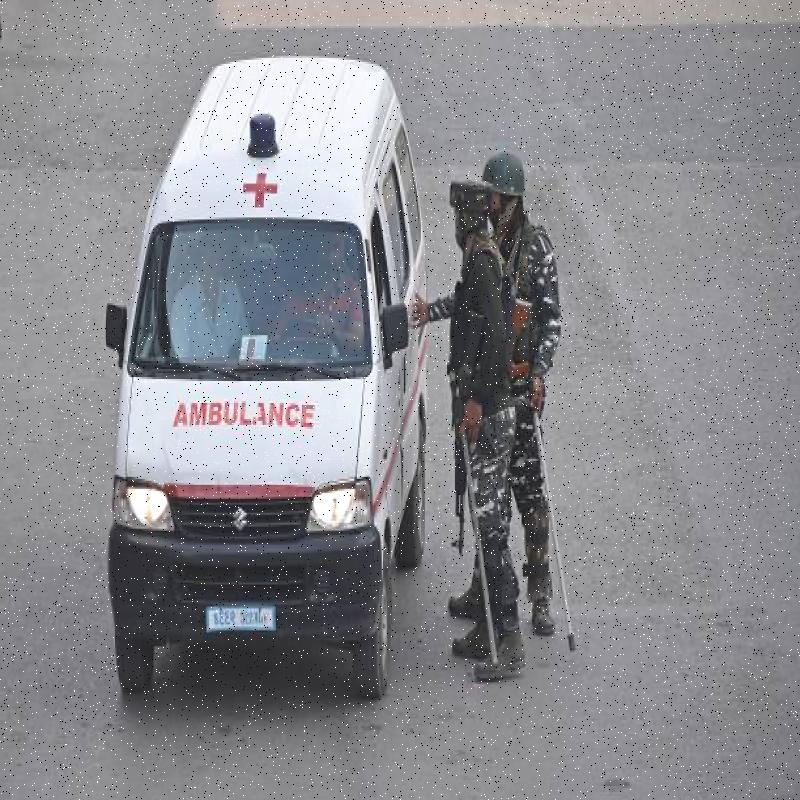ambulance: (98, 52, 441, 654)
